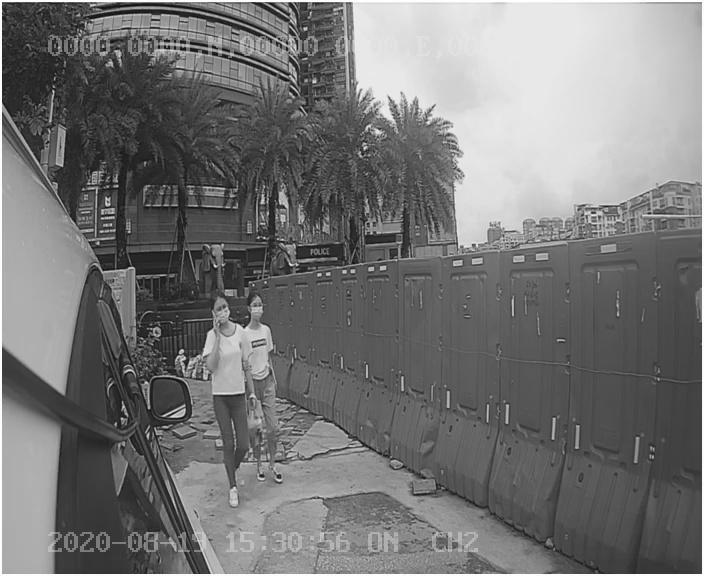person: (198, 292, 290, 509)
